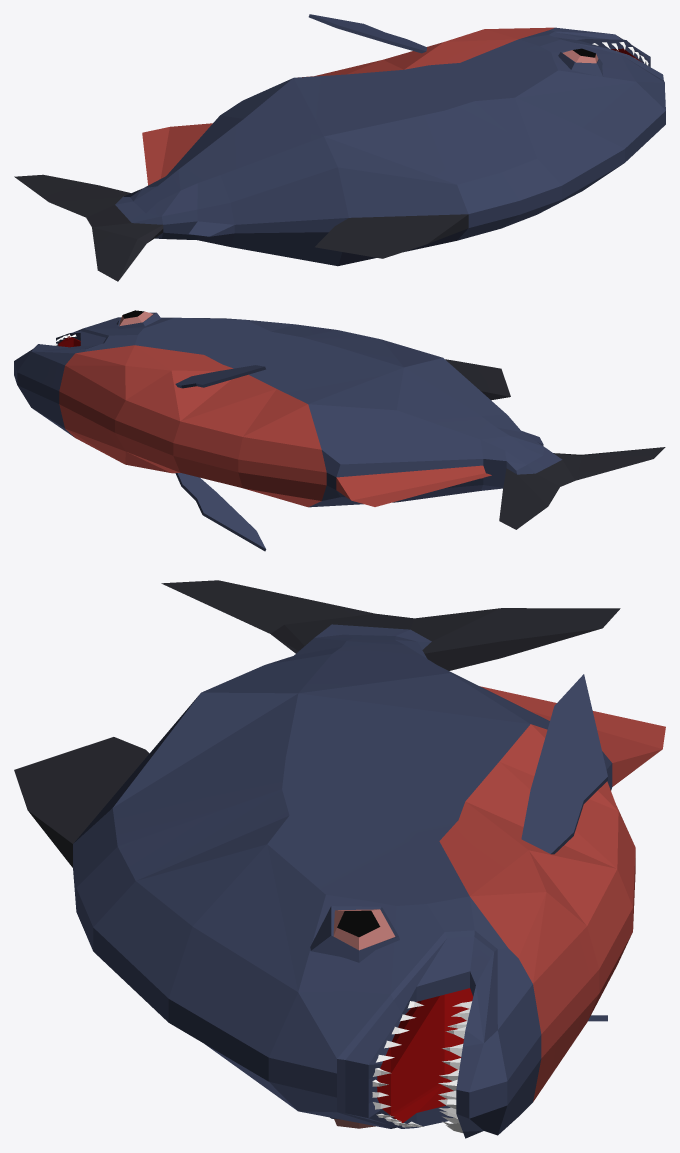
File: Piranha.glb
The picture shows the model from 3 angles, top to bottom: view 1: azimuth 30°, elevation 25°; view 2: azimuth 150°, elevation 25°; view 3: azimuth 270°, elevation 25°; orthographic projection. The views are drawn at different scales.
Parts seen in each view (by area): view 1: Piranha; view 2: Piranha; view 3: Piranha.
Part boxes in pixels (bbox=[...]): Piranha: bbox=[14, 14, 665, 281]; Piranha: bbox=[14, 310, 665, 551]; Piranha: bbox=[14, 580, 665, 1138].
Size of the model in its own units: 0.5986 by 0.1846 by 0.314.
1 material, 1 textured.
